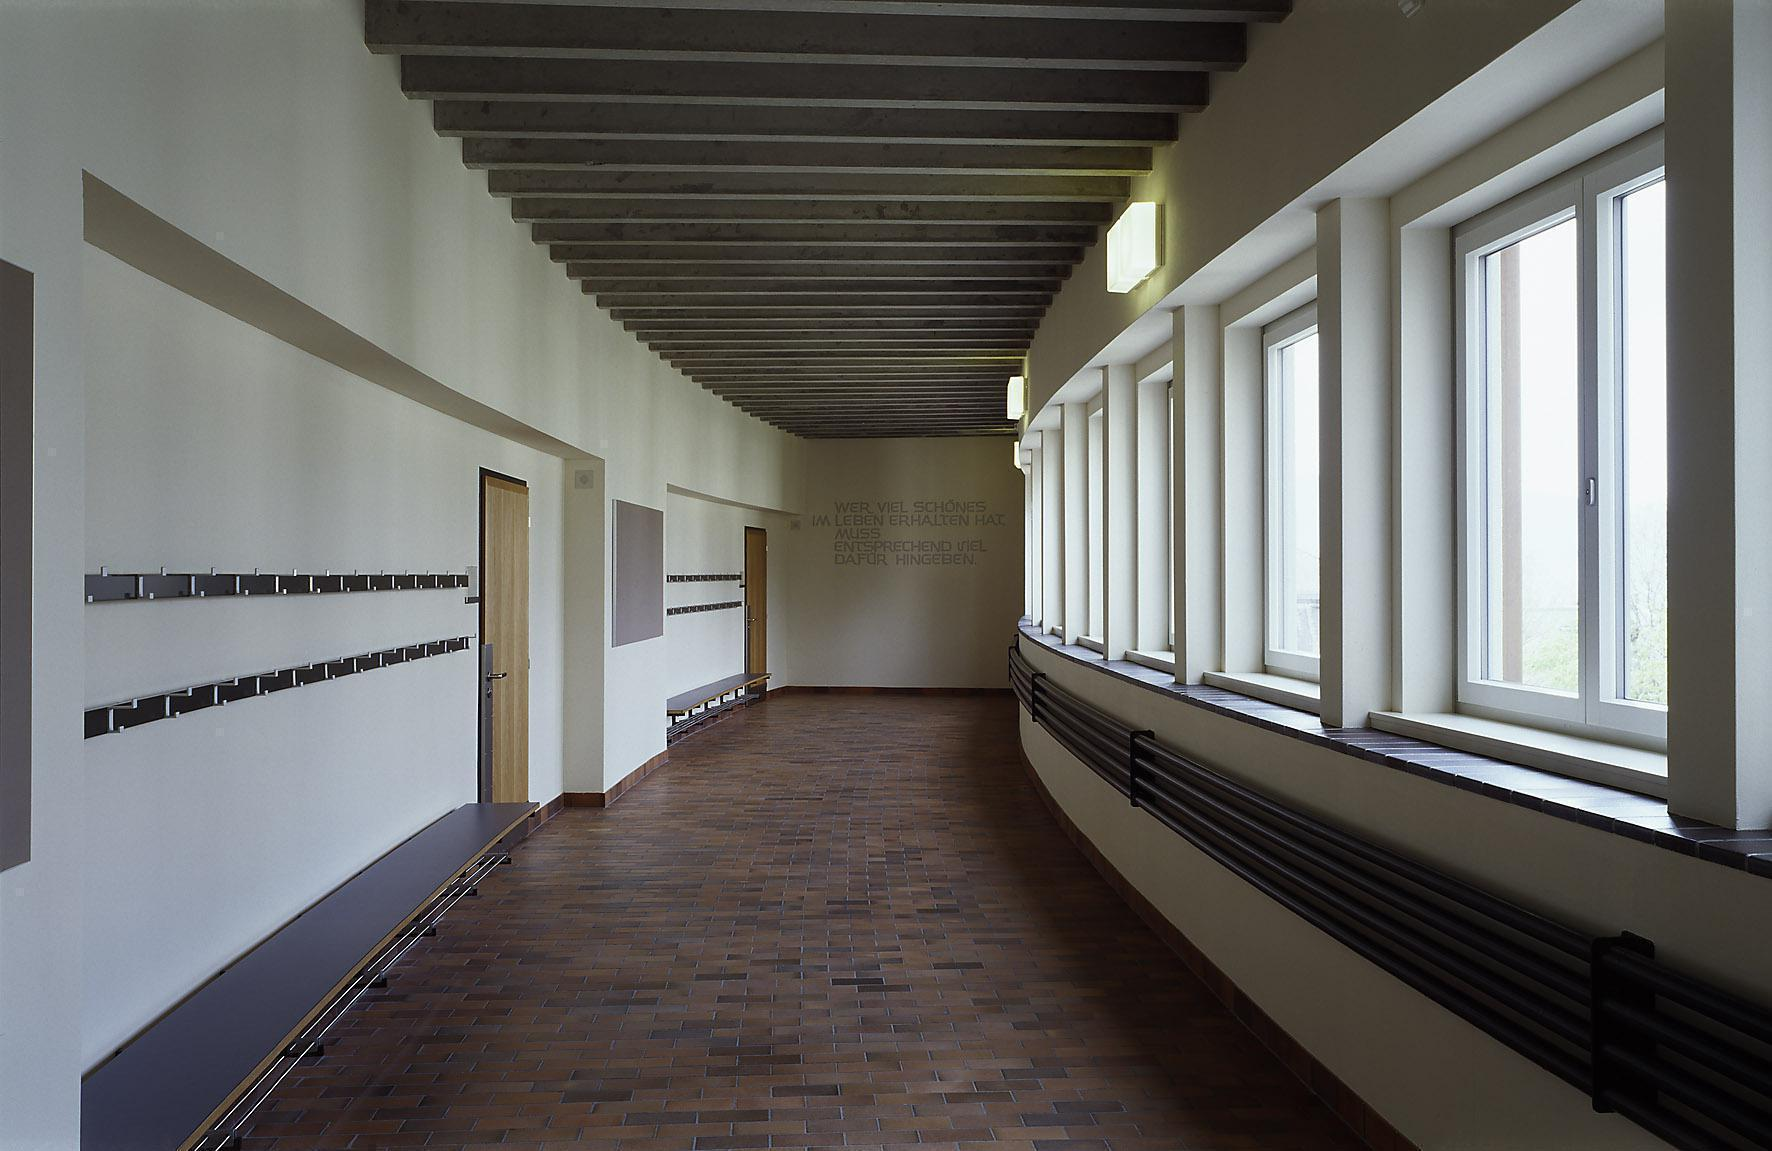Puerta: (475, 472, 533, 804), (743, 523, 772, 690)
